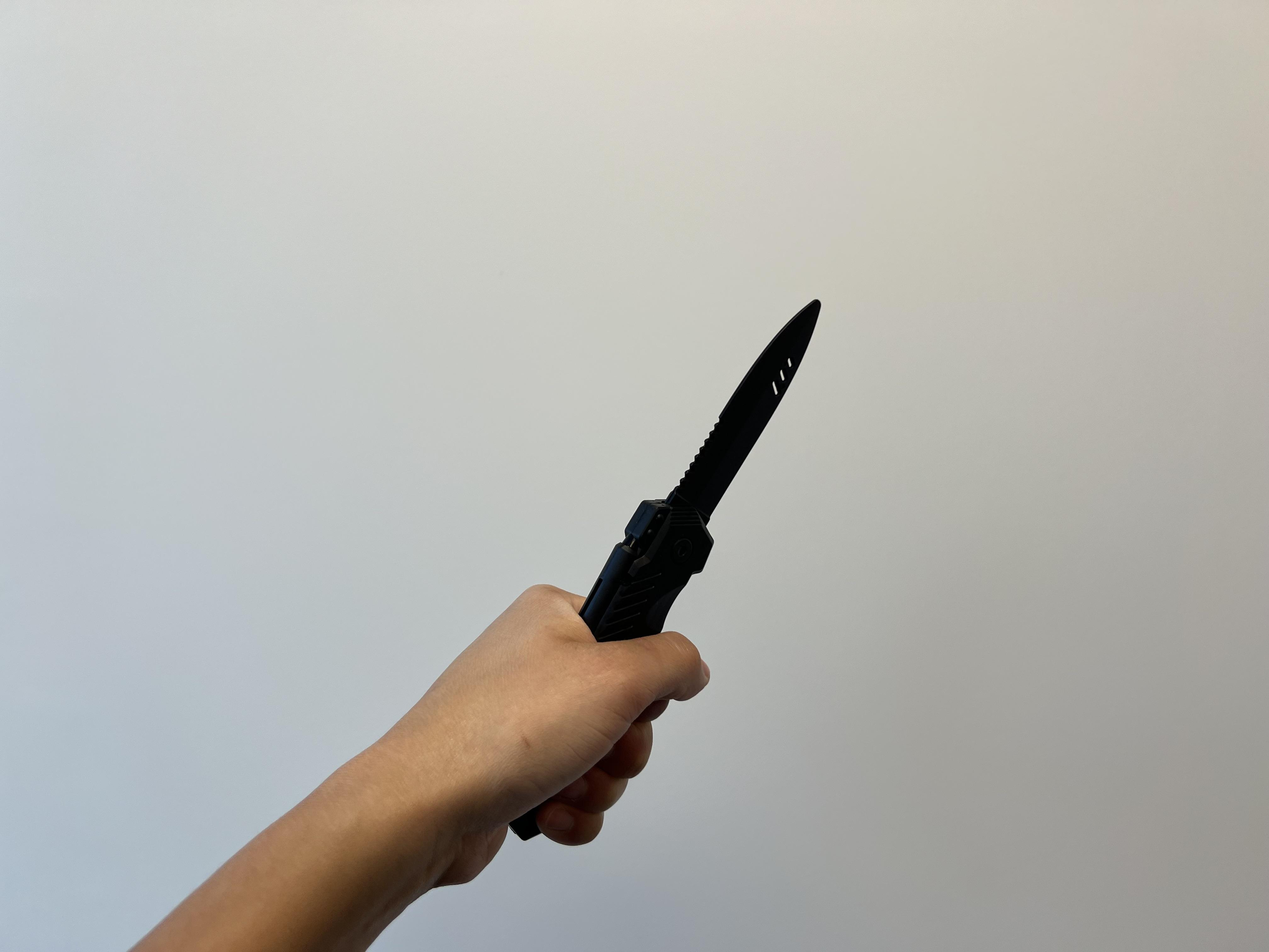Knife: (132, 587, 713, 952), (590, 297, 822, 633), (451, 587, 717, 842)
